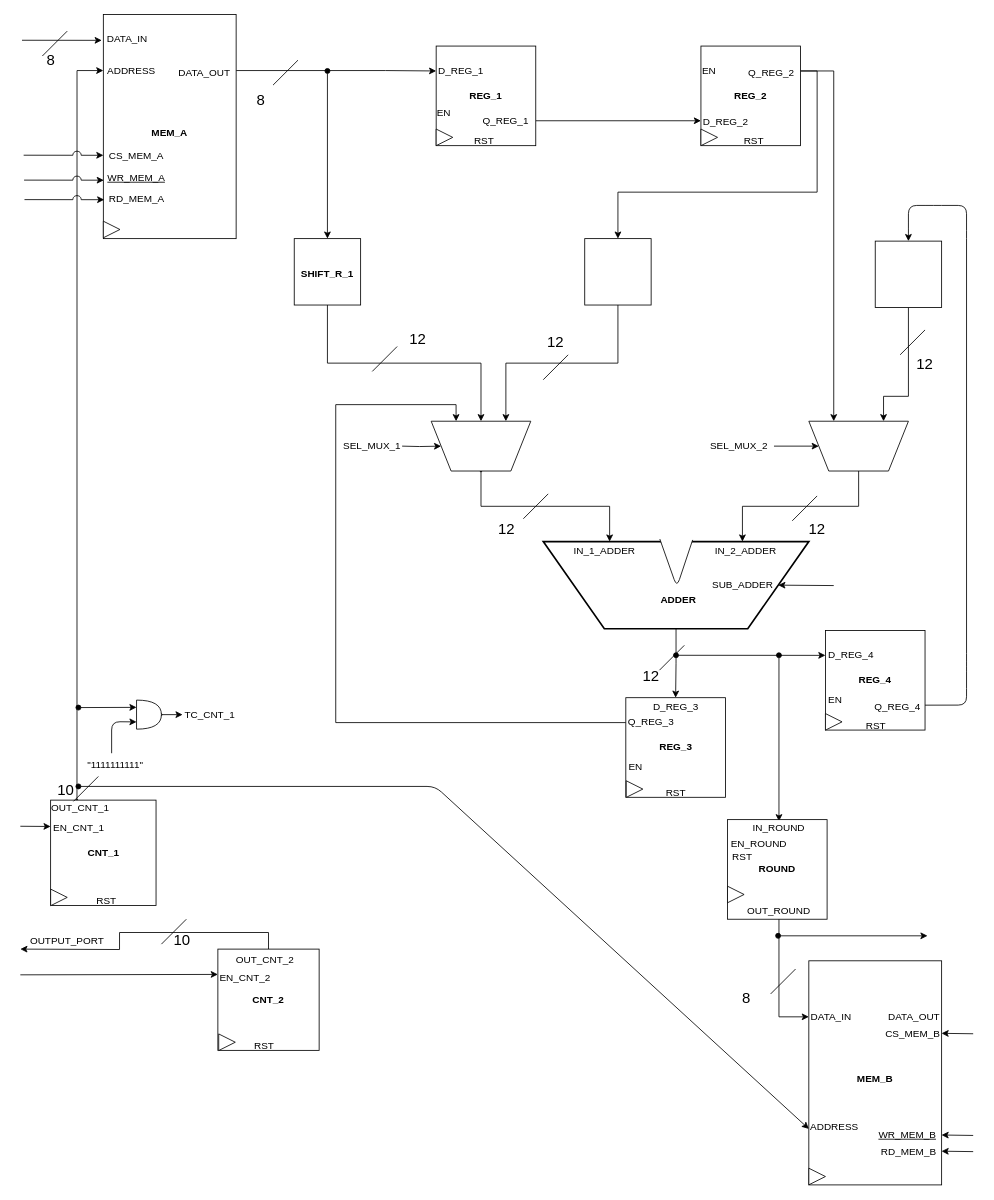
This 994x1200 diagram has some shape labels left out. The shapes that lost their labels are listed below. From the top down, each one's centre as x and y in pixels, then its label:
the point at 617,271: SHIFT_L_4
the point at 908,274: SHIFT_R_2
the point at 480,445: MUX_1
the point at 858,445: MUX_2
